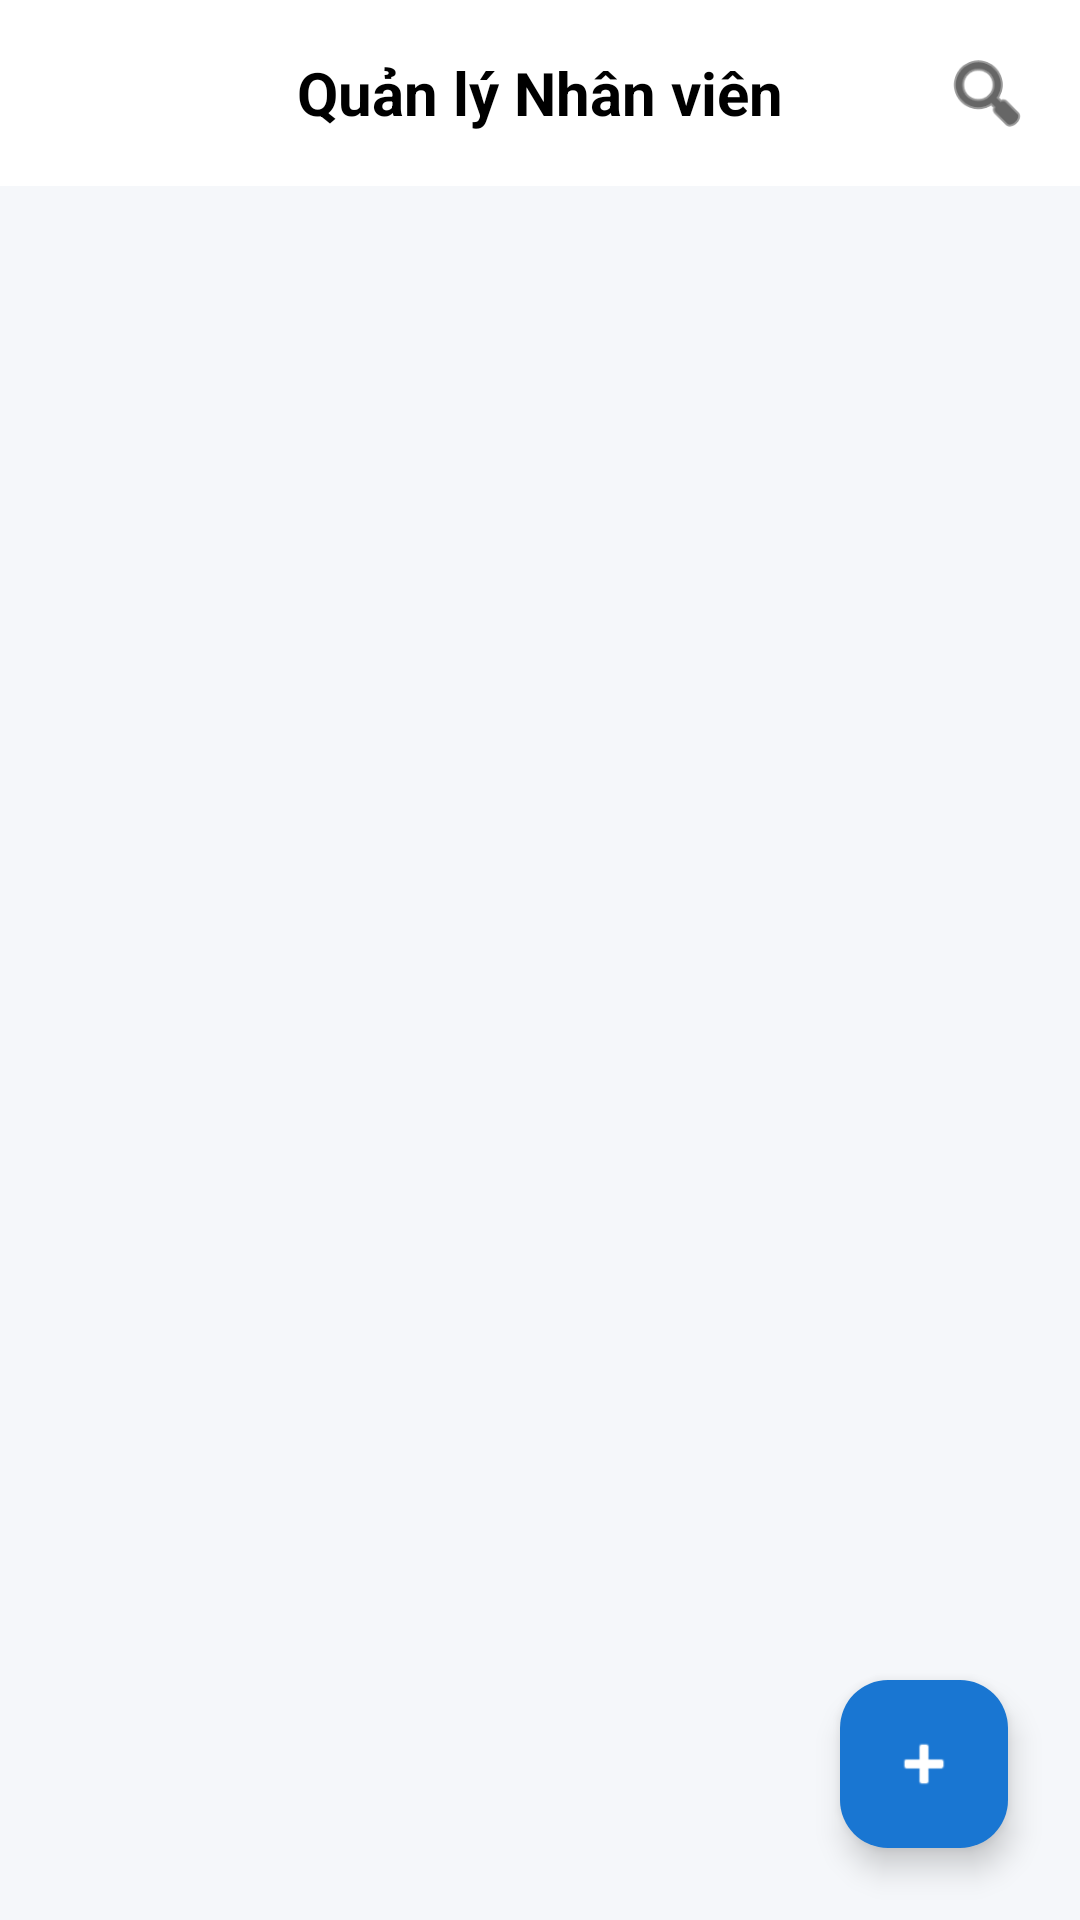

Icons on this 1080 x 1920 Android screen, each with the point to tap as point (x, y):
add: point (924, 1764)
search: point (987, 93)
